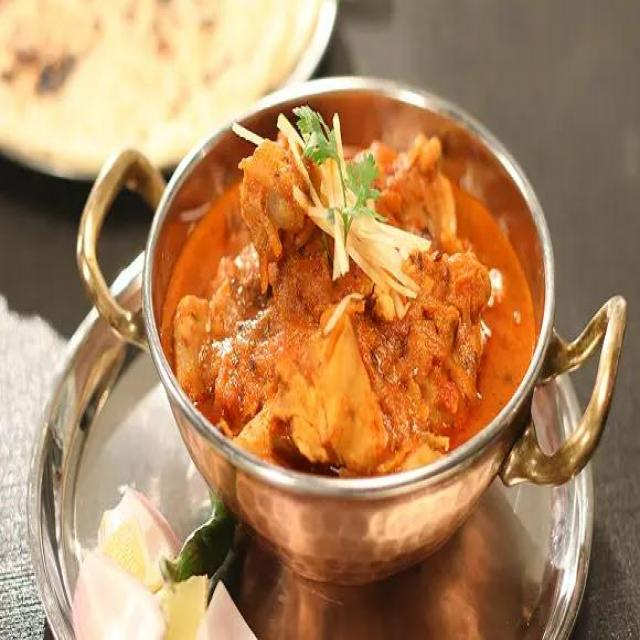chicken: (164, 105, 531, 487)
roti: (2, 0, 312, 154)
